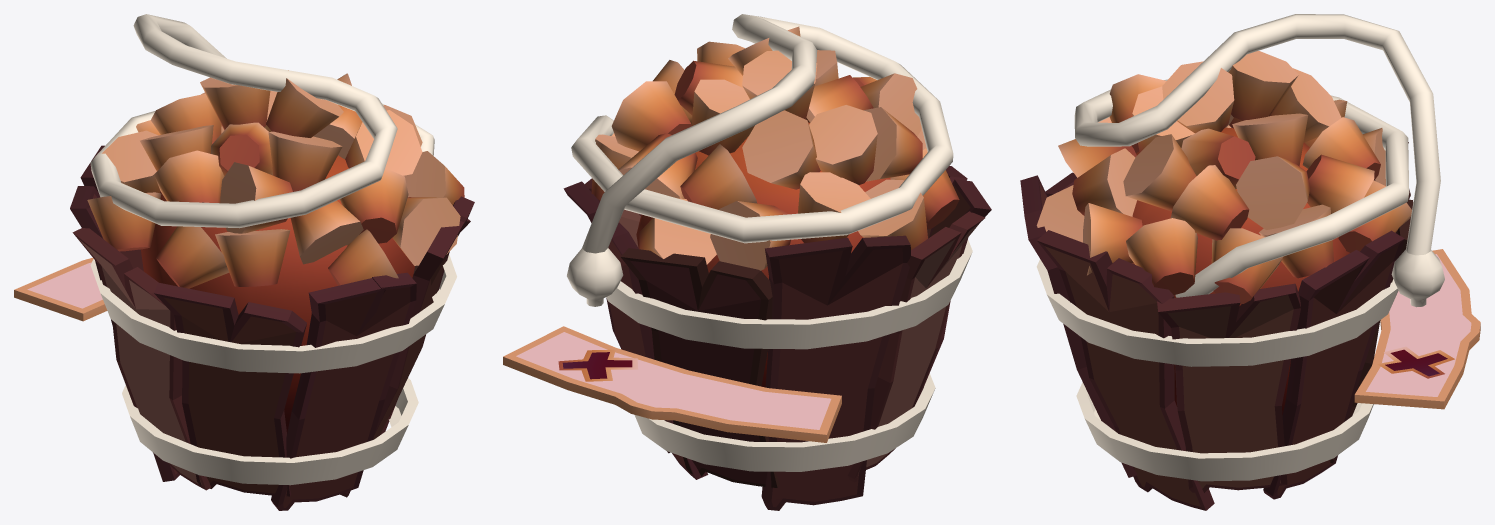
Rendered from corker1.fbx.
The picture shows the model from 3 angles, left to right: view 1: azimuth 30°, elevation 25°; view 2: azimuth 150°, elevation 25°; view 3: azimuth 270°, elevation 25°; orthographic projection. The views are drawn at different scales.
Parts seen in each view (by area): view 1: corker; view 2: corker, corkerSquelcher; view 3: corker, corkerSquelcher.
Boxes of the visible parts, x1=… form: corker: x1=14, y1=14, x2=474, y2=510; corker: x1=503, y1=14, x2=991, y2=510; corkerSquelcher: x1=567, y1=248, x2=623, y2=306; corker: x1=1020, y1=14, x2=1480, y2=510; corkerSquelcher: x1=1391, y1=249, x2=1444, y2=307.
Bounding box in the file's own units: 3.14 × 3.74 × 3.63.
